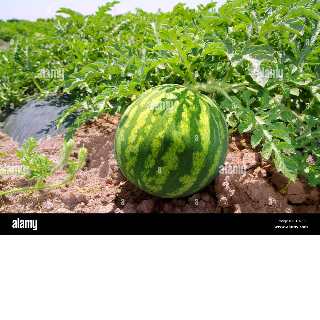dua_hau: (113, 79, 228, 200)
